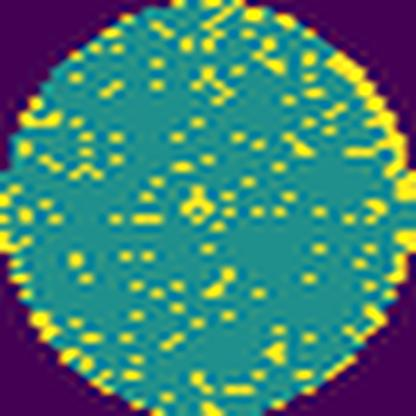Edge-Loc: (314, 40, 416, 202)
